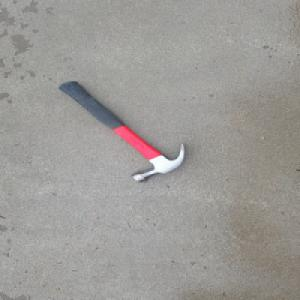Hammer: (53, 79, 185, 182)
